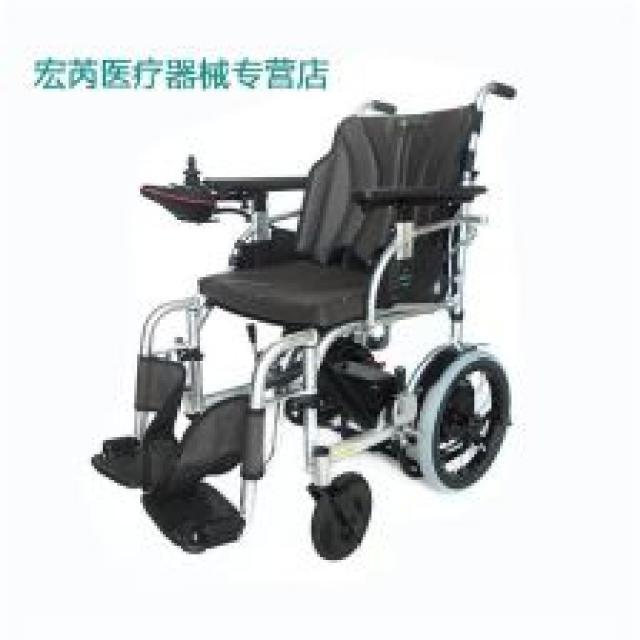wheelchair: (88, 74, 526, 592)
